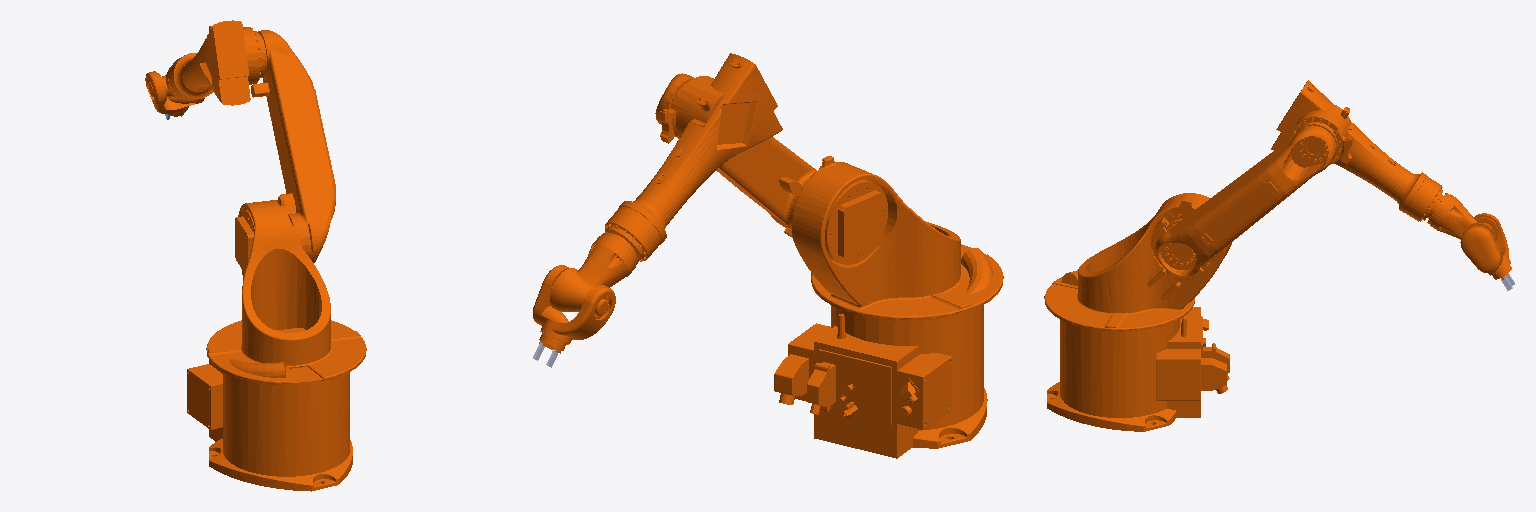
The robot description file, URDF, robot "kuka_prism":
<?xml version="1.0" encoding="utf-8"?>
<!-- This URDF was automatically created by SolidWorks to URDF Exporter! Originally created by [author] ([email redacted]) 
     Commit Version: 1.6.0-4-g7f85cfe  Build Version: 1.6.7995.38578
     For more information, please see http://wiki.ros.org/sw_urdf_exporter -->
<robot name="kuka_prism">
  
  <link name="world"/>
  <joint name="base_joint" type="fixed">
    <parent link="world"/>
    <child link="base_link"/>
    <origin rpy="0 0 0" xyz="0.0 0.0 0.17"/>
  </joint>
  
  <link  name="base_link">
    <inertial>
      <origin
        xyz="0.00203770125996271 0.0516787420465166 0.154231674692837"
        rpy="0 0 0" />
      <mass
        value="59.5344572235136" />
      <inertia
        ixx="1.99175054954146"
        ixy="-0.0345376637497177"
        ixz="-0.000618142924361162"
        iyy="1.58719305664109"
        iyz="0.0476710164615629"
        izz="2.15114302906829" />
    </inertial>
    <visual>
      <origin
        xyz="0 0 0"
        rpy="0 0 0" />
      <geometry>
        <mesh
          filename="package://kuka_prism/meshes/base_link.STL" />
      </geometry>
      <material
        name="">
        <color
          rgba="0.917647058823529 0.43921568627451 0.0666666666666667 1" />
      </material>
    </visual>
    <collision>
      <origin
        xyz="0 0 0"
        rpy="0 0 0" />
      <geometry>
        <mesh
          filename="package://kuka_prism/meshes/base_link.STL" />
      </geometry>
    </collision>
  </link>
  <gazebo reference="base_link">
    <material>Gazebo/Black</material>
    <turnGravityOff>false</turnGravityOff>
  </gazebo>

  <link  name="Base_Rotary_Link">
    <inertial>
      <origin
        xyz="0.0208827429069736 0.089343928569874 0.0896769735882005"
        rpy="0 0 0" />
      <mass
        value="24.6935705009375" />
      <inertia
        ixx="1.06759496553512"
        ixy="-0.0886910252753023"
        ixz="-0.087627703242765"
        iyy="0.756138605709795"
        iyz="-0.354551325198558"
        izz="0.636809741979015" />
    </inertial>
    <visual>
      <origin
        xyz="0 0 0"
        rpy="0 0 0" />
      <geometry>
        <mesh
          filename="package://kuka_prism/meshes/Base_Rotary_Link.STL" />
      </geometry>
      <material
        name="">
        <color
          rgba="0.917647058823529 0.43921568627451 0.0666666666666667 1" />
      </material>
    </visual>
    <collision>
      <origin
        xyz="0 0 0"
        rpy="0 0 0" />
      <geometry>
        <mesh
          filename="package://kuka_prism/meshes/Base_Rotary_Link.STL" />
      </geometry>
    </collision>
  </link>
  <gazebo reference="Base_Rotary_Link">
    <material>Gazebo/Orange</material>
    <turnGravityOff>false</turnGravityOff>
  </gazebo>
  <joint  name="Base_Rotary_Joint"  type="revolute">
    <origin
      xyz="0.00295140614493894 0.0114427763503281 0.373"
      rpy="0 0 0" />
    <parent
      link="base_link" />
    <child
      link="Base_Rotary_Link" />
    <axis
      xyz="0 0 1" />
    <limit
      lower="-3.14"
      upper="3.14"
      effort="500"
      velocity="50" />
    <dynamics damping="100" friction="5"/>
  </joint>
  <transmission name="base_rotary_rev_trans">
    <type>transmission_interface/SimpleTransmission</type>
    <joint name="Base_Rotary_Joint">
    <hardwareInterface>hardware_interface/PositionJointInterface</hardwareInterface>
    </joint>
    <actuator name="base_rotary_rev_motor">
    <hardwareInterface>hardware_interface/PositionJointInterface</hardwareInterface>
    <mechanicalReduction>1</mechanicalReduction>
    </actuator>
  </transmission>


  <link  name="Rotary_Lower_Link">
    <inertial>
      <origin
        xyz="-0.218067850531585 0.228000820007621 0.0967589693013073"
        rpy="0 0 0" />
      <mass
        value="16.467727337451" />
      <inertia
        ixx="0.54623145293032"
        ixy="0.420433502144022"
        ixz="0.0238052595102046"
        iyy="0.50067670176559"
        iyz="-0.0249297912984627"
        izz="0.904652444820654" />
    </inertial>
    <visual>
      <origin
        xyz="0 0 0"
        rpy="0 0 0" />
      <geometry>
        <mesh
          filename="package://kuka_prism/meshes/Rotary_Lower_Link.STL" />
      </geometry>
      <material
        name="">
        <color
          rgba="0.917647058823529 0.43921568627451 0.0666666666666667 1" />
      </material>
    </visual>
    <collision>
      <origin
        xyz="0 0 0"
        rpy="0 0 0" />
      <geometry>
        <mesh
          filename="package://kuka_prism/meshes/Rotary_Lower_Link.STL" />
      </geometry>
    </collision>
  </link>
  <gazebo reference="Rotary_Lower_Link">
    <material>Gazebo/Orange</material>
    <turnGravityOff>false</turnGravityOff>
  </gazebo>
  <joint  name="Rotary_Lower_Joint"  type="revolute">
    <origin
      xyz="0.120083091140588 0.225332459849951 0.282"
      rpy="0.252425765300273 1.57079631189374 0" />
    <parent
      link="Base_Rotary_Link" />
    <child
      link="Rotary_Lower_Link" />
    <axis
      xyz="-0.0263066820881646 0 0.999653919352849" />
    <limit
      lower="-0.40"
      upper="1.20"
      effort="500"
      velocity="50" />
      <dynamics damping="100" friction="5.0"/> 
  </joint>
  <transmission name="rotary_lower_rev_trans">
    <type>transmission_interface/SimpleTransmission</type>
    <joint name="Rotary_Lower_Joint">
    <hardwareInterface>hardware_interface/PositionJointInterface</hardwareInterface>
    </joint>
    <actuator name="rotary_lower_rev_motor">
    <hardwareInterface>hardware_interface/PositionJointInterface</hardwareInterface>
    <mechanicalReduction>1</mechanicalReduction>
    </actuator>
  </transmission>

  <link  name="Lower_Upper_Link">
    <inertial>
      <origin
        xyz="0.0664354130667393 0.0876861565899366 -0.110272650869997"
        rpy="0 0 0" />
      <mass
        value="9.58028877304867" />
      <inertia
        ixx="0.139395246423734"
        ixy="-0.0544935362969246"
        ixz="0.00300390239346567"
        iyy="0.0756162769192294"
        iyz="0.00199264759598737"
        izz="0.184603625053789" />
    </inertial>
    <visual>
      <origin
        xyz="0 0 0"
        rpy="0 0 0" />
      <geometry>
        <mesh
          filename="package://kuka_prism/meshes/Lower_Upper_Link.STL" />
      </geometry>
      <material
        name="">
        <color
          rgba="0.917647058823529 0.43921568627451 0.0666666666666667 1" />
      </material>
    </visual>
    <collision>
      <origin
        xyz="0 0 0"
        rpy="0 0 0" />
      <geometry>
        <mesh
          filename="package://kuka_prism/meshes/Lower_Upper_Link.STL" />
      </geometry>
    </collision>
  </link>
  <gazebo reference="Lower_Upper_Link">
    <material>Gazebo/Orange</material>
    <turnGravityOff>false</turnGravityOff>
  </gazebo>
  <joint  name="Lower_Upper_Joint"  type="revolute">
    <origin
      xyz="-0.469936955960101 0.493391330737375 0.0410000000000002"
      rpy="0 0 0" />
    <parent
      link="Rotary_Lower_Link" />
    <child
      link="Lower_Upper_Link" />
    <axis
      xyz="0 0 1" />
    <limit
      lower="-1.0"
      upper="1.80"
      effort="500"
      velocity="50" />
    <dynamics damping="100" friction="5.0"/>
  </joint>
  <transmission name="lower_upper_rev_trans">
    <type>transmission_interface/SimpleTransmission</type>
    <joint name="Lower_Upper_Joint">
    <hardwareInterface>hardware_interface/PositionJointInterface</hardwareInterface>
    </joint>
    <actuator name="lower_upper_rev_motor">
    <hardwareInterface>hardware_interface/PositionJointInterface</hardwareInterface>
    <mechanicalReduction>1</mechanicalReduction>
    </actuator>
  </transmission>

  <link  name="Upper_P2_Link">
    <inertial>
      <origin
        xyz="-0.00141641570086826 -0.000525781321933483 0.0900615597783834"
        rpy="0 0 0" />
      <mass
        value="2.45285371756511" />
      <inertia
        ixx="0.54623145293032"
        ixy="0.420433502144022"
        ixz="0.0238052595102046"
        iyy="0.50067670176559"
        iyz="-0.0249297912984627"
        izz="0.904652444820654" />
    </inertial>
    <visual>
      <origin
        xyz="0 0 0"
        rpy="0 0 0" />
      <geometry>
        <mesh
          filename="package://kuka_prism/meshes/Upper_P2_Link.STL" />
      </geometry>
      <material
        name="">
        <color
          rgba="0.917647058823529 0.43921568627451 0.0666666666666667 1" />
      </material>
    </visual>
    <collision>
      <origin
        xyz="0 0 0"
        rpy="0 0 0" />
      <geometry>
        <mesh
          filename="package://kuka_prism/meshes/Upper_P2_Link.STL" />
      </geometry>
    </collision>
  </link>
  <gazebo reference="Upper_P2_Link">
    <material>Gazebo/Orange</material>
    <turnGravityOff>false</turnGravityOff>
  </gazebo>
  <joint  name="Upper_P2_Joint"  type="revolute">
    <origin
      xyz="0.25407 0.40374 -0.119"
      rpy="-1.5708 1.088 -0.5145" />
    <parent
      link="Lower_Upper_Link" />
    <child
      link="Upper_P2_Link" />
    <axis
      xyz="0 0 -1" />
    <limit
      lower="-3.14"
      upper="3.14"
      effort="100"
      velocity="3" />
  </joint>
  <transmission name="upper_p2_rev_trans">
    <type>transmission_interface/SimpleTransmission</type>
    <joint name="Upper_P2_Joint">
    <hardwareInterface>hardware_interface/PositionJointInterface</hardwareInterface>
    </joint>
    <actuator name="upper_p2_cont_motor">
    <hardwareInterface>hardware_interface/PositionJointInterface</hardwareInterface>
    <mechanicalReduction>1</mechanicalReduction>
    </actuator>
  </transmission>

  <link  name="P2_Wrist_Link">
    <inertial>
      <origin
        xyz="-0.0403065091308225 0.0251850660705888 0.039810789967267"
        rpy="0 0 0" />
      <mass
        value="1.92819444444921" />
      <inertia
        ixx="0.00977664808983564"
        ixy="0.00211073374849672"
        ixz="-9.26860812505038E-05"
        iyy="0.0118156258224182"
        iyz="8.44072413727145E-05"
        izz="0.00735281625391729" />
      </inertial>
      <visual>
        <origin
          xyz="0 0 0"
          rpy="0 0 0" />
        <geometry>
          <mesh
            filename="package://kuka_prism/meshes/P2_Wrist_Link.STL" />
        </geometry>
        <material
          name="">
          <color
            rgba="0.917647058823529 0.43921568627451 0.0666666666666667 1" />
        </material>
      </visual>
      <collision>
        <origin
          xyz="0 0 0"
          rpy="0 0 0" />
        <geometry>
          <mesh
            filename="package://kuka_prism/meshes/P2_Wrist_Link.STL" />
        </geometry>
      </collision>
  </link>
  <gazebo reference="P2_Wrist_Link">
    <material>Gazebo/Orange</material>
    <turnGravityOff>false</turnGravityOff>
  </gazebo>
  <joint  name="P2_Wrist_Joint"  type="revolute">
    <origin
      xyz="-0.053493 -0.019685 0.2"
      rpy="1.5708 0.53965 1.9234" />
    <parent
      link="Upper_P2_Link" />
    <child
      link="P2_Wrist_Link" />
    <axis
      xyz="0 0 -1" />
    <limit
      lower="-1.54"
      upper="2.24"
      effort="100"
      velocity="3" />
    <dynamics damping="100" friction="5.0"/>
  </joint>
  <transmission name="p2_wrist_rev_trans">
    <type>transmission_interface/SimpleTransmission</type>
    <joint name="P2_Wrist_Joint">
    <hardwareInterface>hardware_interface/PositionJointInterface</hardwareInterface>
    </joint>
    <actuator name="p2_wrist_rev_motor">
    <hardwareInterface>hardware_interface/PositionJointInterface</hardwareInterface>
    <mechanicalReduction>1</mechanicalReduction>
    </actuator>
  </transmission>


  <link  name="Grip1_Link">
    <inertial>
      <origin
        xyz="0.0177612035288109 0.0111853693539352 2.77555756156289E-17"
        rpy="0 0 0" />
        <mass
        value="0.11653" />
        <inertia
        ixx="3.9246E-05"
        ixy="-4.7946E-20"
        ixz="1.0258E-05"
        iyy="7.1189E-05"
        iyz="-3.946E-20"
        izz="8.4875E-05" />
    </inertial>
    <visual>
      <origin
        xyz="0 0 0"
        rpy="0 0 0" />
      <geometry>
        <mesh
          filename="package://kuka_prism/meshes/Grip1_Link.STL" />
      </geometry>
      <material
        name="">
        <color
          rgba="0.792156862745098 0.819607843137255 0.933333333333333 1" />
      </material>
    </visual>
    <collision>
      <origin
        xyz="0 0 0"
        rpy="0 0 0" />
      <geometry>
        <mesh
          filename="package://kuka_prism/meshes/Grip1_Link.STL" />
      </geometry>
    </collision>
  </link>
  <gazebo reference="Grip1_Link">
    <material>Gazebo/Green</material>
    <turnGravityOff>false</turnGravityOff>
  </gazebo>
  <joint  name="Grip1_Joint"  type="prismatic">
    <origin
      xyz="-0.14302 0.090035 0.06608"
      rpy="3.1416 0 -3.1416" />
    <parent
      link="P2_Wrist_Link" />
    <child
      link="Grip1_Link" />
    <axis
      xyz="0 0 -1" />
    <limit
      lower="-0.225"
      upper="0.230"
      effort="200"
      velocity="3" />
  </joint>
  <transmission name="grip1_pris_trans">
    <type>transmission_interface/SimpleTransmission</type>
    <joint name="Grip1_Joint">
    <hardwareInterface>hardware_interface/PositionJointInterface</hardwareInterface>
    </joint>
    <actuator name="grip1_pris_motor">
    <hardwareInterface>hardware_interface/PositionJointInterface</hardwareInterface>
    <mechanicalReduction>1</mechanicalReduction>
    </actuator>
  </transmission>


  <link  name="Grip2_Link">
    <inertial>
      <origin
        xyz="0.0177612035287864 0.011185369353921 -1.11022302462516E-16"
        rpy="0 0 0" />
      <mass
        value="0.11653" />
      <inertia
        ixx="3.9246E-05"
        ixy="-4.7946E-20"
        ixz="1.0258E-05"
        iyy="7.1189E-05"
        iyz="-3.946E-20"
        izz="8.4875E-05" />
    </inertial>
    <visual>
      <origin
        xyz="0 0 0"
        rpy="0 0 0" />
      <geometry>
        <mesh
          filename="package://kuka_prism/meshes/Grip2_Link.STL" />
      </geometry>
      <material
        name="">
        <color
          rgba="0.792156862745098 0.819607843137255 0.933333333333333 1" />
      </material>
    </visual>
    <collision>
      <origin
        xyz="0 0 0"
        rpy="0 0 0" />
      <geometry>
        <mesh
          filename="package://kuka_prism/meshes/Grip2_Link.STL" />
      </geometry>
    </collision>
  </link>
  <gazebo reference="Grip2_Link">
    <material>Gazebo/Green</material>
    <turnGravityOff>false</turnGravityOff>
  </gazebo>
  <joint  name="Grip2_Joint"  type="prismatic">
    <origin
      xyz="-0.14302 0.090035 0.015861"
      rpy="-3.1416 0 -3.1416" />
    <parent
      link="P2_Wrist_Link" />
    <child
      link="Grip2_Link" />
    <axis
      xyz="0 0 -1" />
    <limit
      lower="-0.190"
      upper="0.235"
      effort="200"
      velocity="3" />
  </joint>
  <transmission name="grip2_pris_trans">
    <type>transmission_interface/SimpleTransmission</type>
    <joint name="Grip2_Joint">
    <hardwareInterface>hardware_interface/PositionJointInterface</hardwareInterface>
    </joint>
    <actuator name="grip2_pris_motor">
    <hardwareInterface>hardware_interface/PositionJointInterface</hardwareInterface>
    <mechanicalReduction>1</mechanicalReduction>
    </actuator>
  </transmission>

  <gazebo>
    <plugin name="control" filename="libgazebo_ros_control.so">
    <robotNamespace>/</robotNamespace>
    </plugin>
  </gazebo>

  <gazebo reference="Base_Rotary_Link">
    <selfCollide>true</selfCollide>
  </gazebo>

  <gazebo reference="Rotary_Lower_Link">
    <selfCollide>true</selfCollide>
  </gazebo>

  <gazebo reference="Lower_Upper_Link">
    <selfCollide>true</selfCollide>
  </gazebo>

  <gazebo reference="Upper_P2_Link">
    <selfCollide>true</selfCollide>
  </gazebo>

  <gazebo reference="P2_Wrist_Link">
    <selfCollide>true</selfCollide>
  </gazebo>

  <gazebo reference="Grip1_Link">
    <selfCollide>true</selfCollide>
  </gazebo>

  <gazebo reference="Grip2_Link">
    <selfCollide>true</selfCollide>
  </gazebo>



</robot>

--- What the picture shows (computed from the rendered views, not written in the file) ---
3 views of the same robot in one strip: view 1: azimuth 30°, elevation 25°; view 2: azimuth 150°, elevation 25°; view 3: azimuth 270°, elevation 25° (orthographic).
Robot: kuka_prism — 9 links, 8 joints (5 revolute, 2 prismatic, 1 fixed); root link world; default pose: all joints at 0.
Visible links, largest first — view 1: Base_Rotary_Link, base_link, Rotary_Lower_Link, Lower_Upper_Link, P2_Wrist_Link; view 2: base_link, Base_Rotary_Link, Lower_Upper_Link, Rotary_Lower_Link, Upper_P2_Link, P2_Wrist_Link; view 3: base_link, Base_Rotary_Link, Rotary_Lower_Link, Lower_Upper_Link, P2_Wrist_Link, Upper_P2_Link.
Link boxes in pixels (<box>): Base_Rotary_Link: <box>206,196,366,384</box>; base_link: <box>187,360,352,491</box>; Rotary_Lower_Link: <box>251,30,335,262</box>; Lower_Upper_Link: <box>168,20,264,105</box>; P2_Wrist_Link: <box>145,71,204,116</box>; base_link: <box>774,305,987,458</box>; Base_Rotary_Link: <box>792,156,1003,320</box>; Lower_Upper_Link: <box>605,53,782,261</box>; Rotary_Lower_Link: <box>655,73,821,237</box>; Upper_P2_Link: <box>549,232,638,311</box>; P2_Wrist_Link: <box>533,265,615,353</box>; base_link: <box>1047,307,1229,431</box>; Base_Rotary_Link: <box>1044,193,1231,331</box>; Rotary_Lower_Link: <box>1151,125,1336,279</box>; Lower_Upper_Link: <box>1271,80,1442,221</box>; P2_Wrist_Link: <box>1460,213,1511,279</box>; Upper_P2_Link: <box>1427,193,1495,241</box>.
Size in the robot's own frame: 0.7053 by 1.69 by 1.33 metres.
8 mesh visuals loaded from 8 distinct referenced files (8 binary STL).